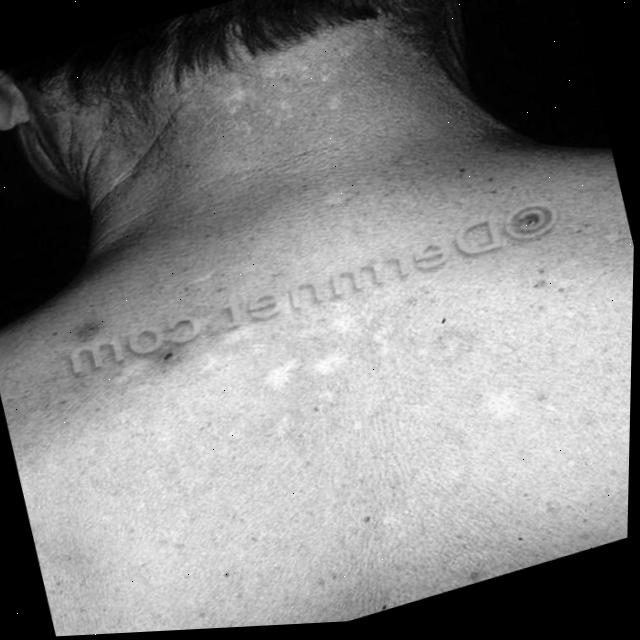Eczema: (57, 192, 484, 463), (225, 34, 360, 144)
